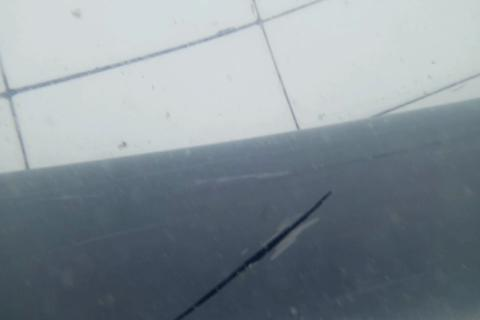keretakan: (173, 186, 335, 320)
